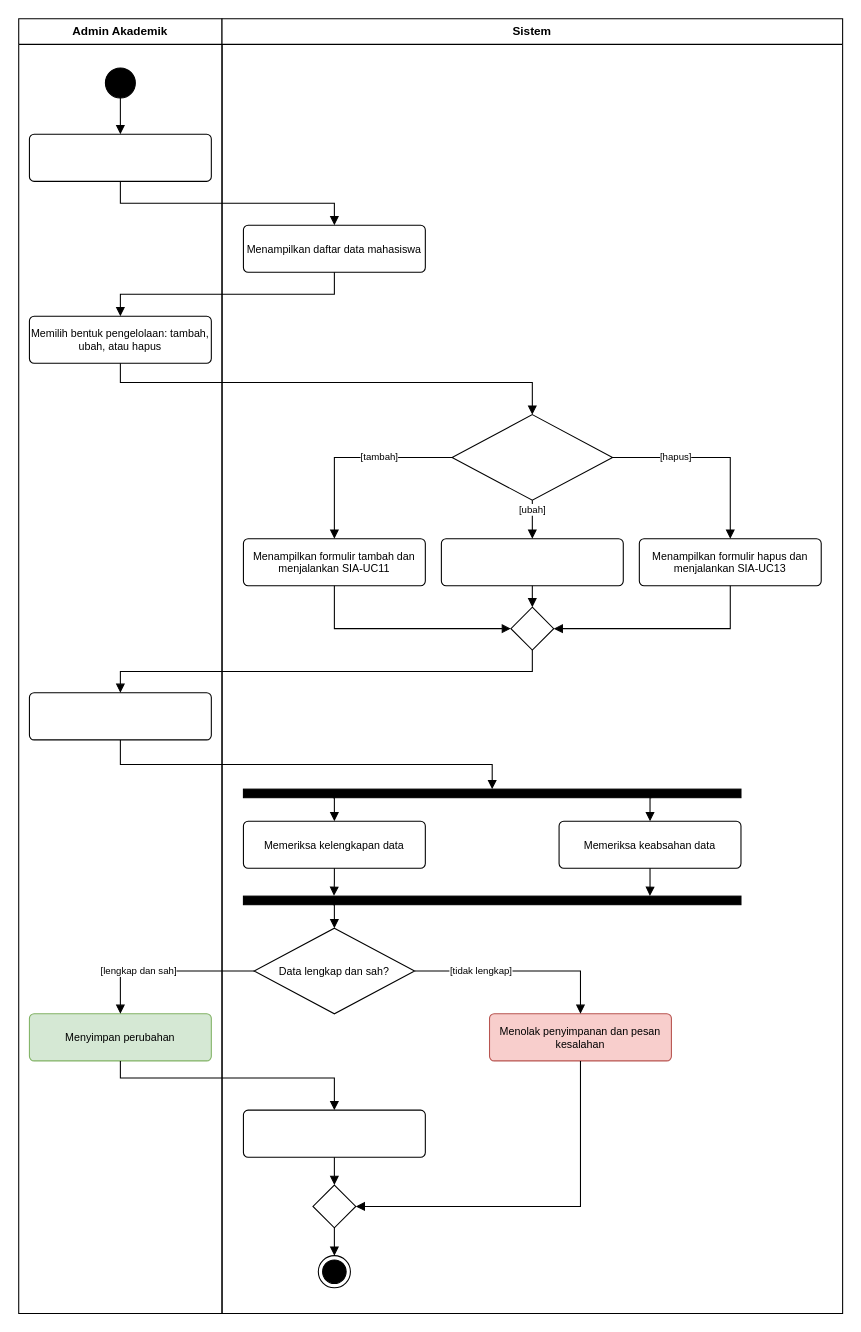
The diagram is 861 pixels wide and 1332 high, and some of its shapes have lost their labels. Each missing label, with the centre of its shape:
"Bentuk pengelolaan?" belongs at (532,457).
"Membuka fungsi Kelola Data Mahasiswa" belongs at (119,157).
"Menampilkan formulir ubah dan menjalankan SIA-UC12" belongs at (531,562).
"Mengisi atau mengonfirmasi data mahasiswa" belongs at (119,716).
"Menyimpan perubahan data dan konfirmasi" belongs at (333,1133).
